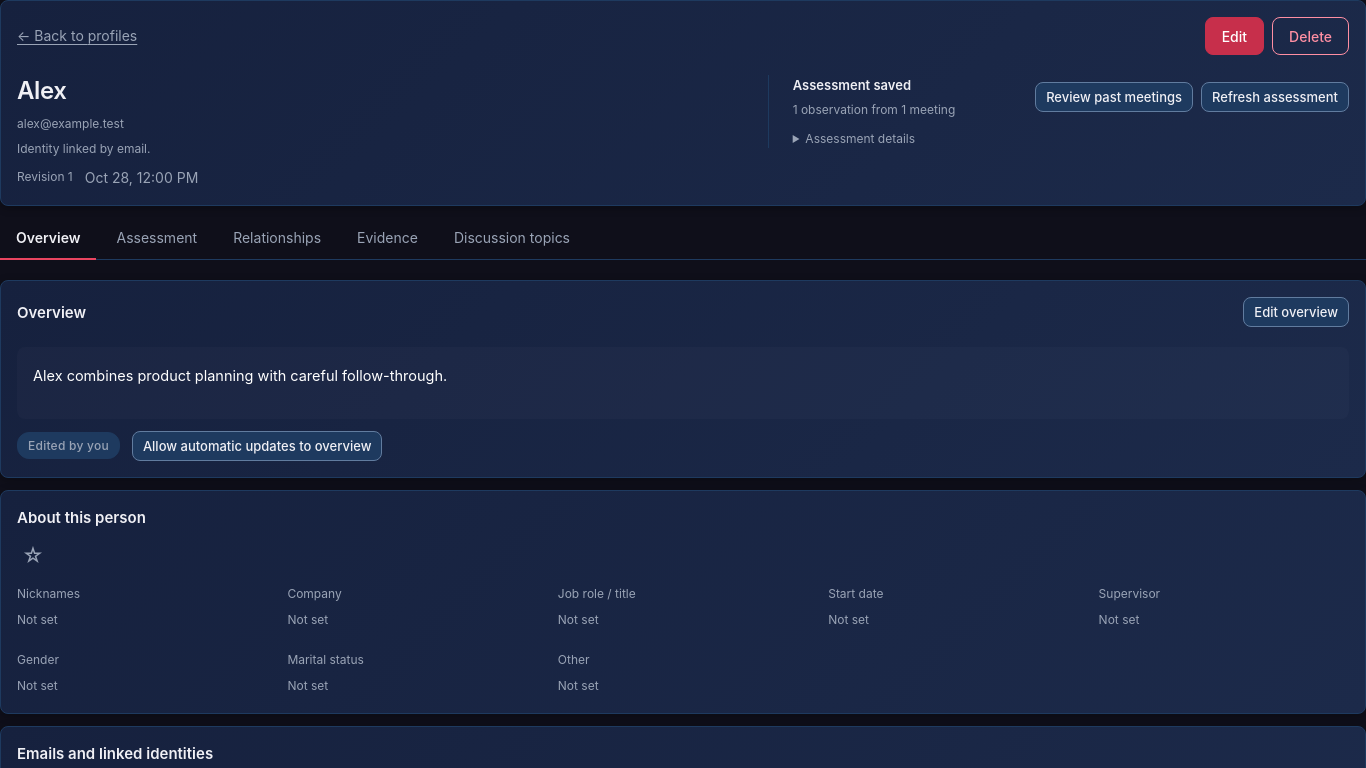
ProfileDetailPage › loads discussion topics only after visiting the fifth URL tab and preserves unrelated query fields
expect the text "Alex combines product planning with careful follow-through." is shown: met, box [33,367,447,384]
Step 1. Click the link "Discussion topics" → (512, 238), box [454,229,570,246]
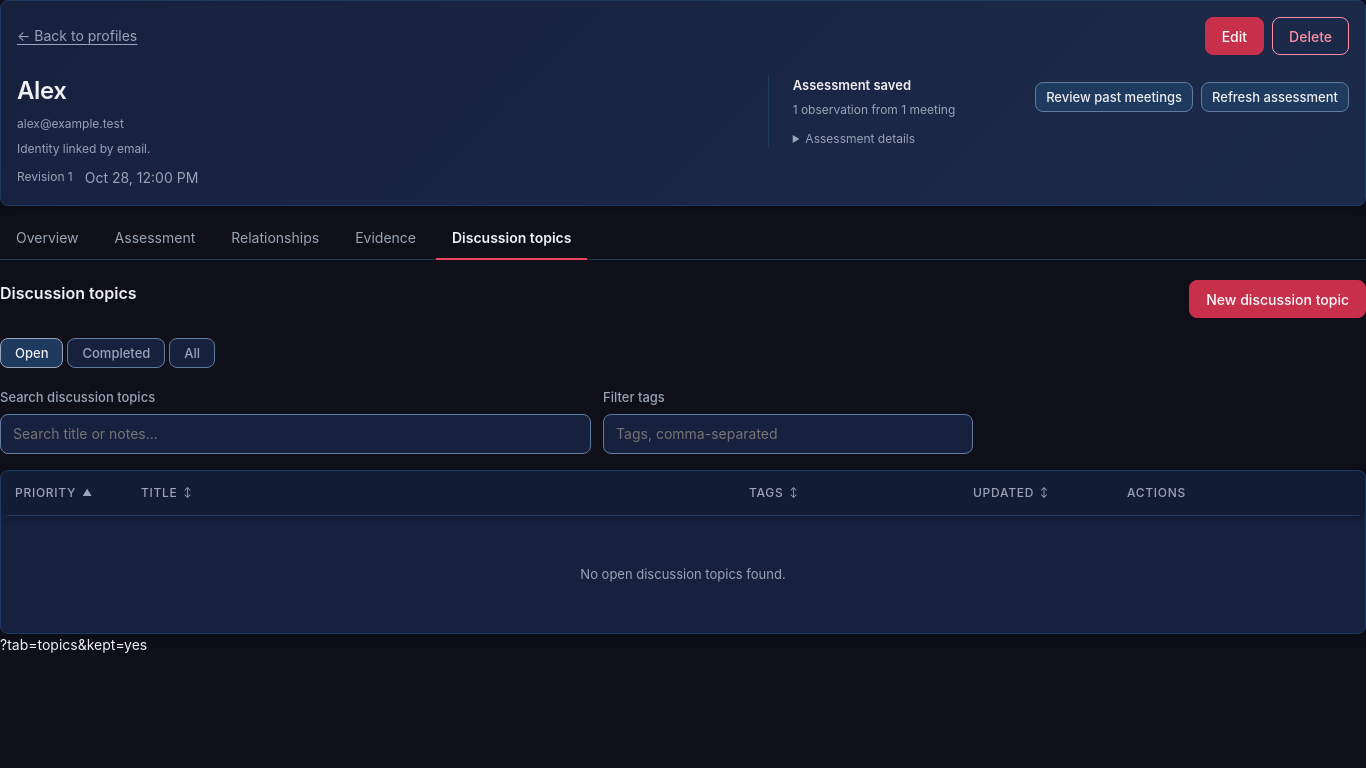
expect the button "New discussion topic" is enabled: met, box [1189,280,1365,318]
expect the text with test id "location" reads "?tab=topics&kept=yes": met, box [0,636,147,653]
